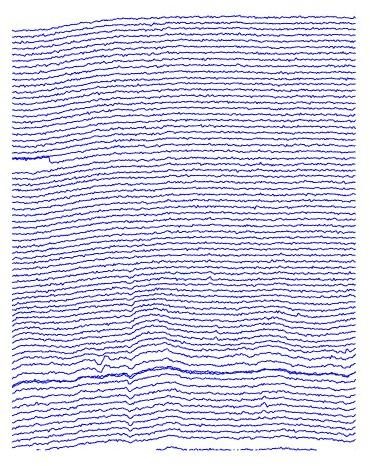defect: (88, 346, 111, 378)
